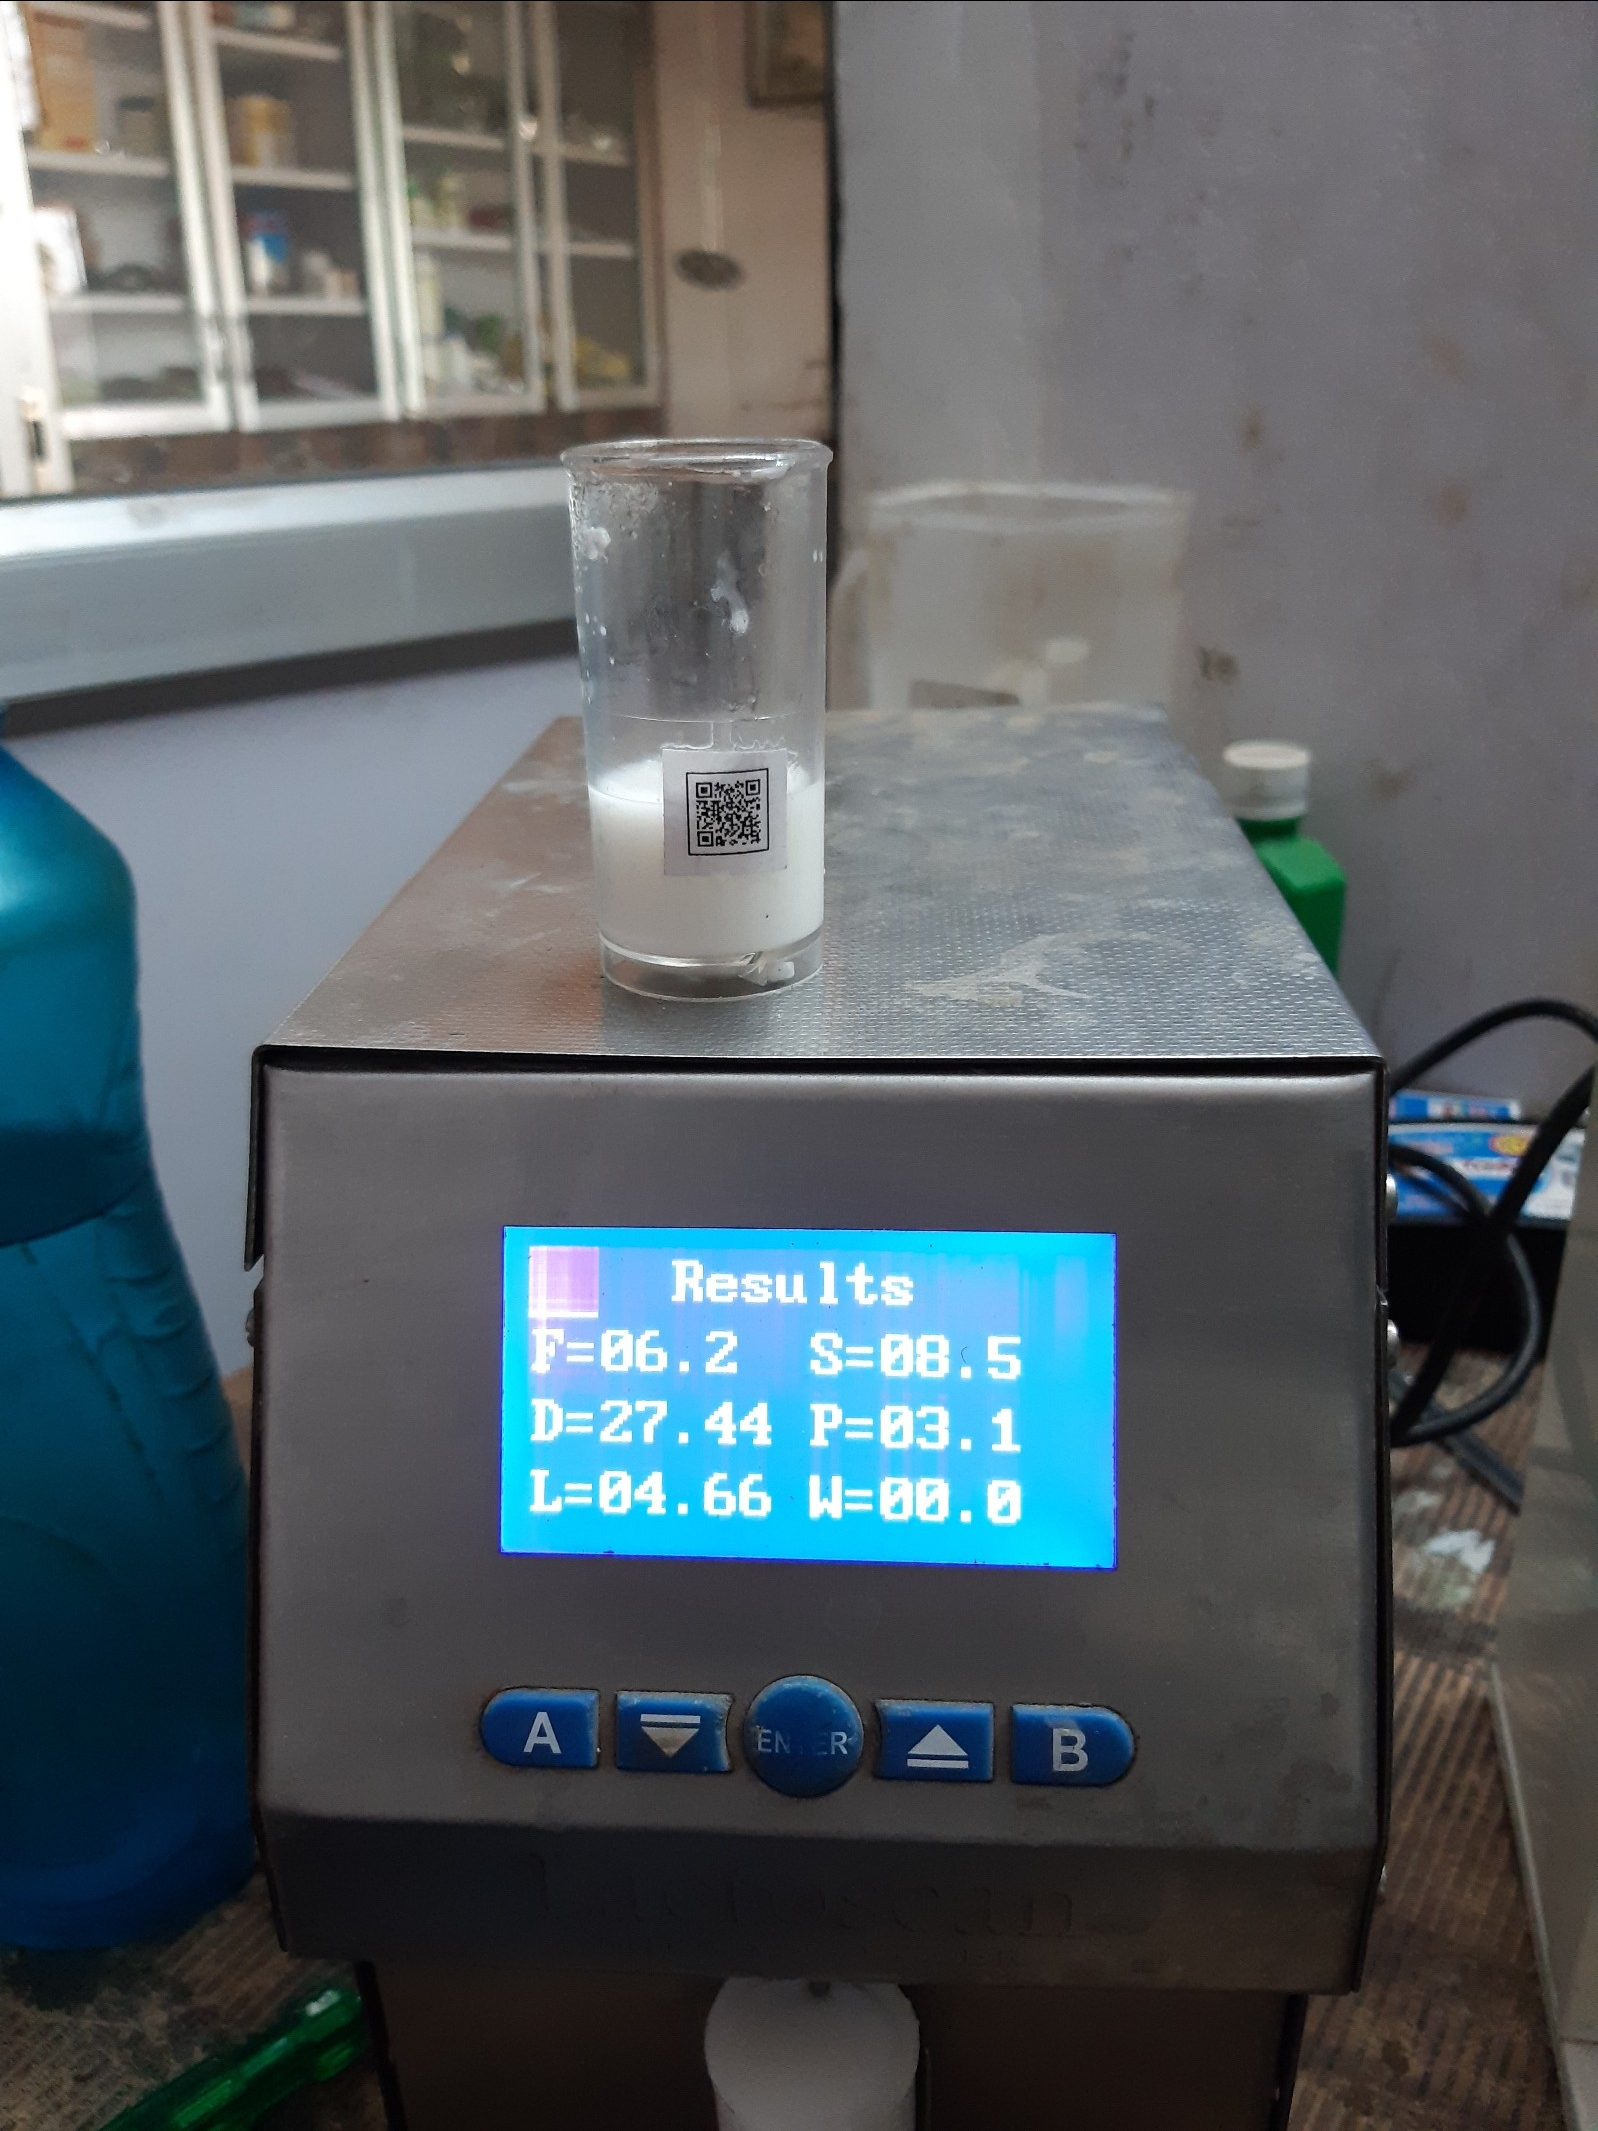lcd: (468, 1206, 1140, 1602)
qr: (655, 762, 792, 881)
